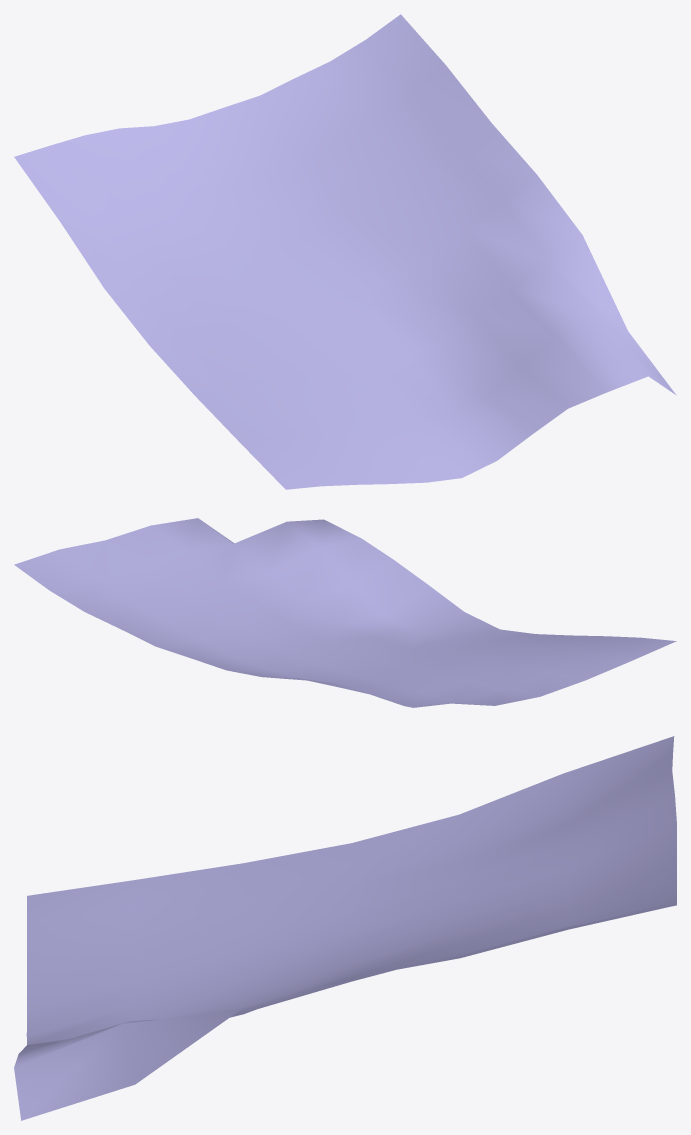
Rendered from test_mesh_packed.glb.
3 views of the same model, one above another, from view 1: azimuth 30°, elevation 25°; view 2: azimuth 150°, elevation 25°; view 3: azimuth 270°, elevation 25° (orthographic). The views are drawn at different scales.
Parts seen in each view (by area): view 1: Test; view 2: Test; view 3: Test.
Boxes of the visible parts, x1=… form: Test: x1=14, y1=14, x2=676, y2=489; Test: x1=14, y1=518, x2=676, y2=707; Test: x1=14, y1=736, x2=676, y2=1120.
Size of the model in its own units: 99.66 by 52.05 by 123.
